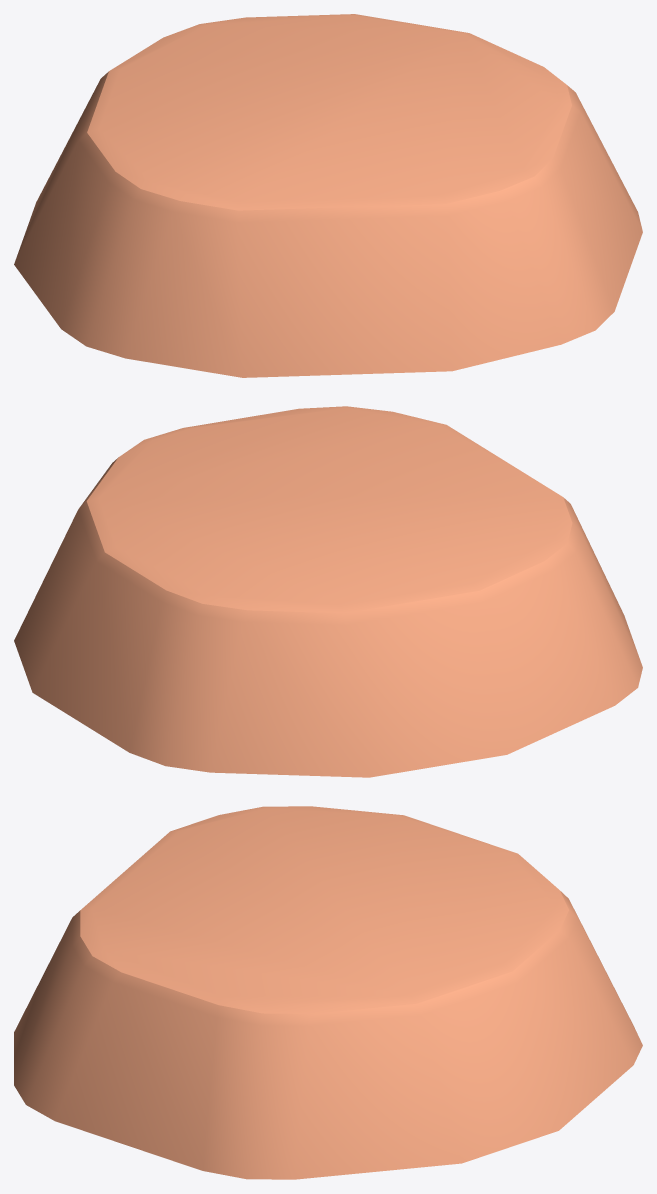
Rendered from RockSmall005.fbx.
3 views of the same model, one above another, from view 1: azimuth 30°, elevation 25°; view 2: azimuth 150°, elevation 25°; view 3: azimuth 270°, elevation 25° (orthographic).
Parts seen in each view (by area): view 1: RockSmall005; view 2: RockSmall005; view 3: RockSmall005.
Part boxes in pixels (x1,y1,x2,y2): RockSmall005: (14, 14, 642, 377); RockSmall005: (14, 406, 642, 777); RockSmall005: (14, 806, 642, 1179).
Bounding box in the file's own units: 474 × 114 × 469.
